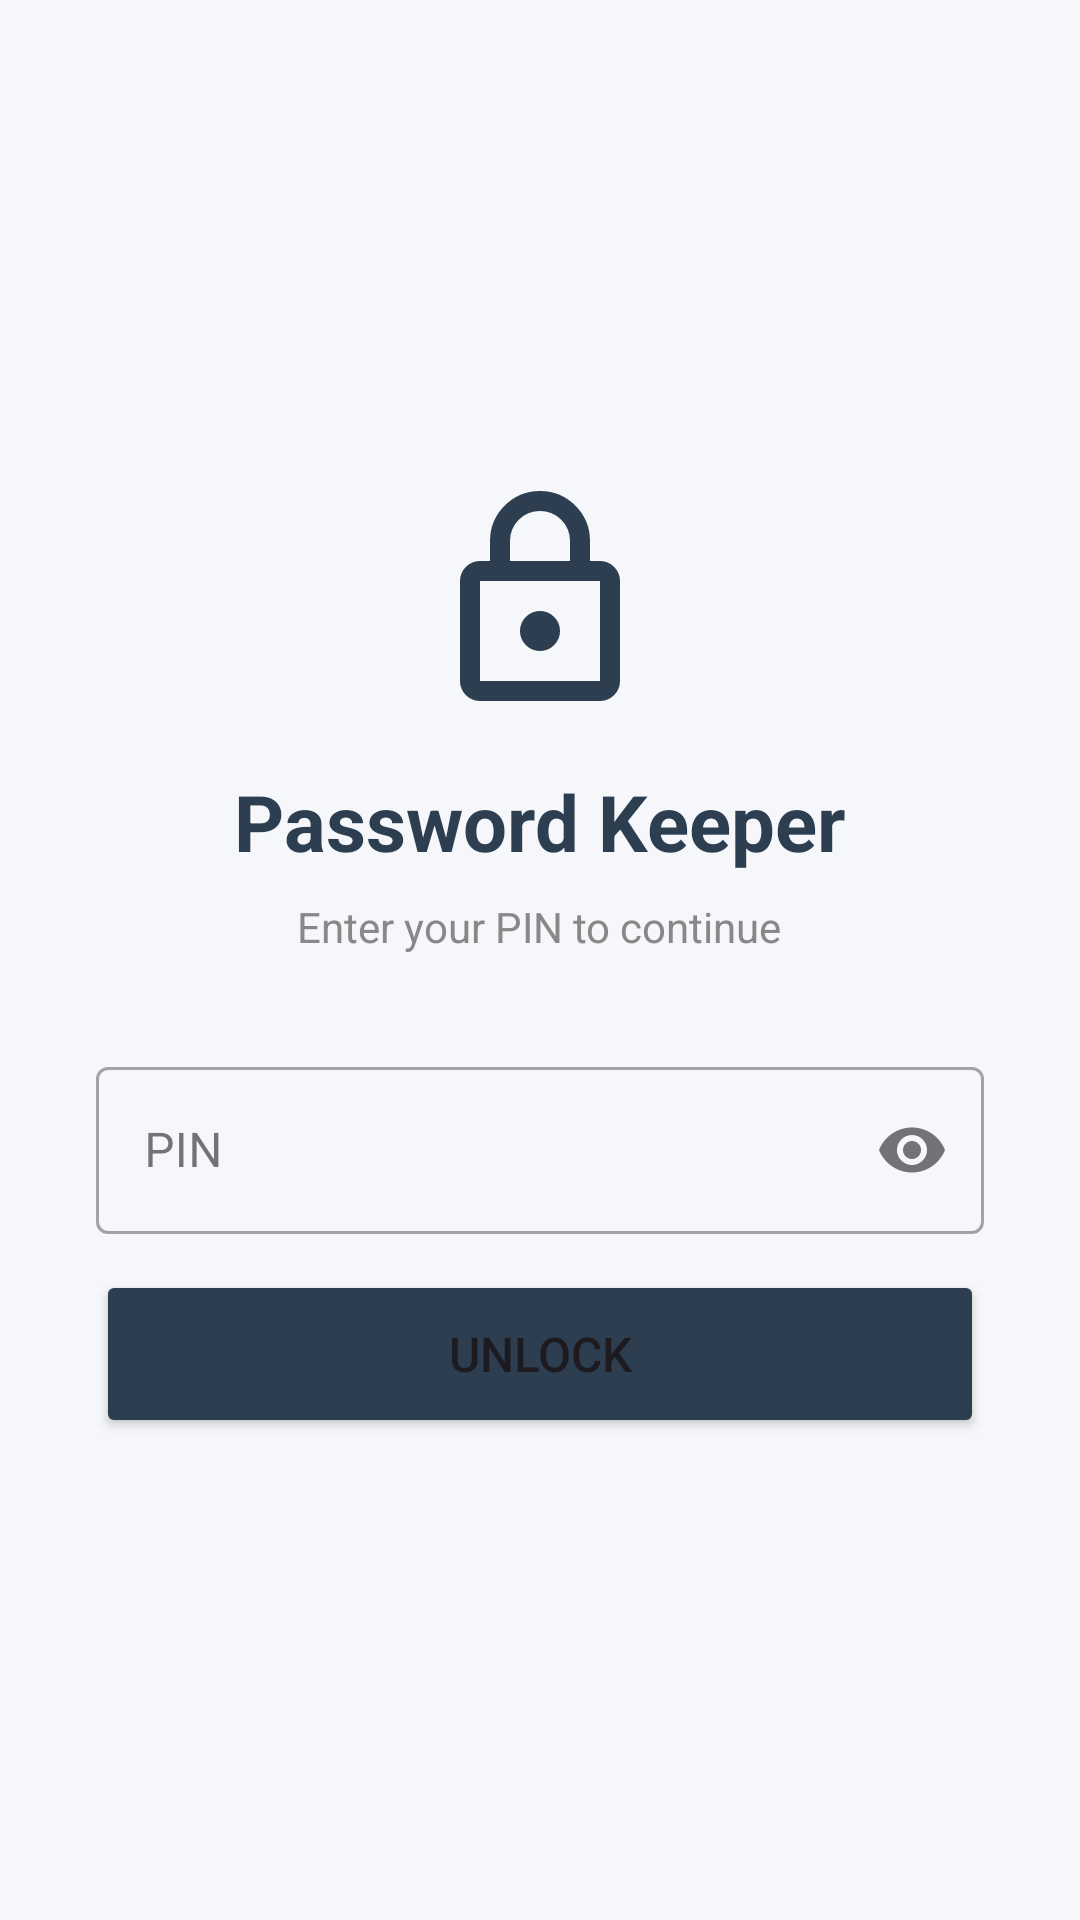

Screen size 1080x1920. Icon name, then its box in pixels as (x1, y1, x2, y2):
lock: (460, 491, 620, 701)
